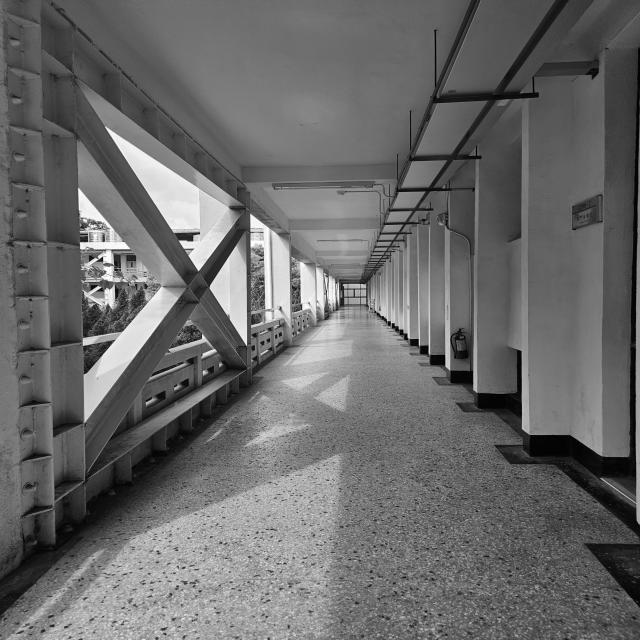Road-Object: (1, 306, 638, 640)
